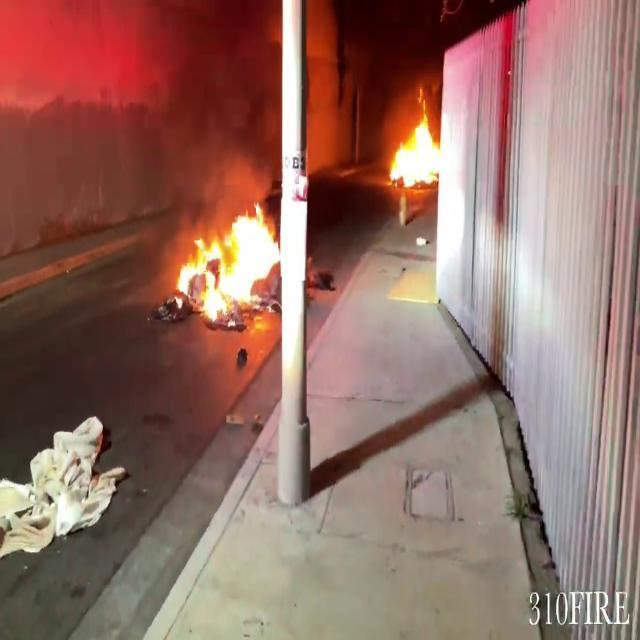Fire: (173, 200, 282, 323), (384, 97, 444, 198)
